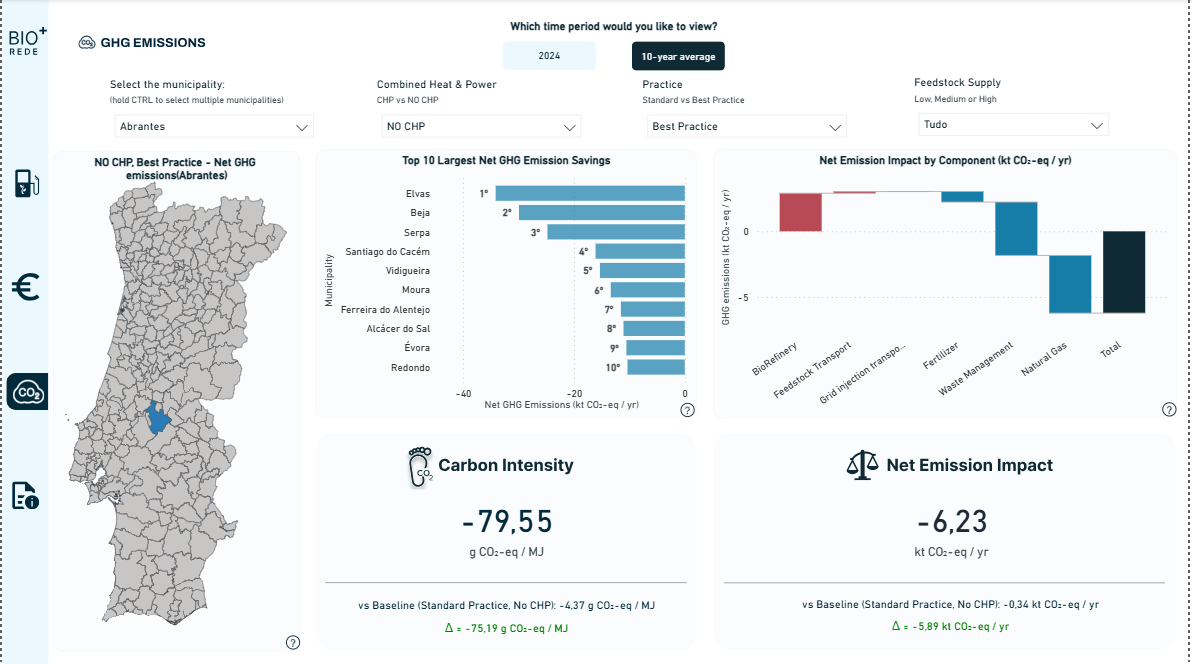

Layout of this report page (visuals, bound fields, positions):
{"tool":"powerbi","page":{"name":"GHG","canvas":[1280,720],"ordinal":5},"visuals":[{"type":"shape","title":"Barra_lateral","box":[0,0,50,720],"z":0,"group":"g2"},{"type":"shapeMap","fields":{"Category":["GHG.Municipality"],"Value":["Sum(GHG.Net Emissions)"]},"box":[55,164.4,266.7,540],"z":1000,"group":"g1"},{"type":"shape","box":[5,404,45,40],"z":1000,"group":"g2"},{"type":"card","fields":{"Values":["GHG.Titulo_mapa_ghg"]},"box":[64.5,164,247.1,40],"z":1500,"group":"g1"},{"type":"group","id":"g1","title":"Grupo 1","box":[55,164,266.9,540.4],"z":2000},{"type":"actionButton","title":"Duvidas_total_mapa","box":[304,686,17.9,17.9],"z":2000,"group":"g1"},{"type":"slicer","title":"Select the municipality:","fields":{"Values":["Municipality.Municipality"]},"box":[117,85.1,225,68.1],"z":3000},{"type":"actionButton","title":"Total_button","box":[5,180,44,40],"z":3000,"group":"g2"},{"type":"group","id":"g2","title":"Menu lateral abaerto","box":[0,0,50,720],"z":4000},{"type":"group","id":"g3","title":"Grupo 3","box":[541,-3.9,240,83.3],"z":5000},{"type":"actionButton","title":"Info_button","box":[3,516,44,40.6],"z":5000,"group":"g2"},{"type":"group","id":"g4","title":"Grupo 4","box":[338,164,411,290],"z":6000},{"type":"actionButton","title":"Euro_button","box":[6,404,44,40],"z":6000,"group":"g2"},{"type":"actionButton","box":[82,32,140,31],"z":7000},{"type":"actionButton","title":"Person_button","box":[3.6,292,44,40],"z":7000,"group":"g2"},{"type":"actionButton","title":"MEM+","box":[0,22.1,49.9,49.9],"z":8000,"group":"g2"},{"type":"actionButton","title":"TE_total_button","box":[680.7,47,100.3,31.3],"z":8000,"group":"g5"},{"type":"clusteredBarChart","title":"Top 10 Largest Net GHG Emission Savings","fields":{"Category":["GHG_TOP10.Municipality"],"Y":["Sum(GHG_TOP10.Net CO2eq yr-1)"]},"box":[338,164,411,290],"z":8000,"group":"g4"},{"type":"slicer","title":"Combined Heat & Power","fields":{"Values":["CHP.CHP_or_not"]},"box":[405,85.1,225.7,68.1],"z":9000},{"type":"actionButton","box":[541.3,46.8,100,30.8],"z":10000,"group":"g5"},{"type":"waterfallChart","title":"Net Emission Impact by Component (kt CO₂-eq / yr)","fields":{"Category":["Components.Component"],"Y":["Components.Waterfall Value"]},"box":[767.6,164,500.4,290],"z":10000},{"type":"slicer","title":"Practice","fields":{"Values":["Practice.Practice"]},"box":[692,85.1,225.7,68.1],"z":11000},{"type":"actionButton","box":[338.4,469.8,411.2,234.4],"z":12000},{"type":"actionButton","title":"Duvidas_total_ranking","box":[730.5,436,17.9,17.9],"z":13000,"group":"g4"},{"type":"cardVisual","fields":{"Data":["GHG.Avg_carbon_intensity"]},"box":[469.8,536,150.3,79.4],"z":13000},{"type":"textbox","box":[541,-3.9,240,83.3],"z":14000,"group":"g3"},{"type":"cardVisual","fields":{"Data":["GHG.sentence1_CI","GHG.sentence2_CI"]},"box":[349.8,640.9,390.4,50],"z":14000},{"type":"group","id":"g5","title":"Grupo 2","box":[541.3,46.8,239.7,31.5],"z":14500,"group":"g3"},{"type":"actionButton","box":[767.6,469.8,500.1,234.4],"z":15000},{"type":"cardVisual","fields":{"Data":["GHG.Avg_net_em_impact"]},"box":[927.4,536,194.7,79.4],"z":16000},{"type":"cardVisual","fields":{"Data":["GHG.sentence1_NEI","GHG.sentence2_NEI"]},"box":[829.1,640.9,390.4,49.2],"z":17000},{"type":"actionButton","box":[1252,436,17,17],"z":18000},{"type":"slicer","title":"Feedstock Supply","fields":{"Values":["Supply.Supply"]},"box":[980,85,225,68],"z":19000}]}

Visuals, with their boxes in screenshot pixels (x1, y1, x2, y2), scaled from the page's 1280x720 canvas onto the 1192x664 screenshot:
"Barra_lateral" shape: <bbox>0, 0, 47, 663</bbox>
shapeMap - GHG.Municipality x Sum(GHG.Net Emissions): <bbox>51, 152, 300, 650</bbox>
shape: <bbox>5, 373, 47, 409</bbox>
card - GHG.Titulo_mapa_ghg: <bbox>60, 151, 290, 188</bbox>
"Grupo 1" group: <bbox>51, 151, 300, 650</bbox>
"Duvidas_total_mapa" actionButton: <bbox>283, 633, 300, 649</bbox>
"Select the municipality:" slicer: <bbox>109, 78, 318, 141</bbox>
"Total_button" actionButton: <bbox>5, 166, 46, 203</bbox>
"Menu lateral abaerto" group: <bbox>0, 0, 47, 663</bbox>
"Grupo 3" group: <bbox>504, 0, 727, 73</bbox>
"Info_button" actionButton: <bbox>3, 476, 44, 513</bbox>
"Grupo 4" group: <bbox>315, 151, 698, 419</bbox>
"Euro_button" actionButton: <bbox>6, 373, 47, 409</bbox>
actionButton: <bbox>76, 30, 207, 58</bbox>
"Person_button" actionButton: <bbox>3, 269, 44, 306</bbox>
"MEM+" actionButton: <bbox>0, 20, 46, 66</bbox>
"TE_total_button" actionButton: <bbox>634, 43, 727, 72</bbox>
"Top 10 Largest Net GHG Emission Savings" clusteredBarChart: <bbox>315, 151, 698, 419</bbox>
"Combined Heat & Power" slicer: <bbox>377, 78, 587, 141</bbox>
actionButton: <bbox>504, 43, 597, 72</bbox>
"Net Emission Impact by Component (kt CO₂-eq / yr)" waterfallChart: <bbox>715, 151, 1181, 419</bbox>
"Practice" slicer: <bbox>644, 78, 855, 141</bbox>
actionButton: <bbox>315, 433, 698, 649</bbox>
"Duvidas_total_ranking" actionButton: <bbox>680, 402, 697, 419</bbox>
cardVisual - GHG.Avg_carbon_intensity: <bbox>438, 494, 577, 568</bbox>
textbox: <bbox>504, 0, 727, 73</bbox>
cardVisual - GHG.sentence1_CI x GHG.sentence2_CI: <bbox>326, 591, 689, 637</bbox>
"Grupo 2" group: <bbox>504, 43, 727, 72</bbox>
actionButton: <bbox>715, 433, 1181, 649</bbox>
cardVisual - GHG.Avg_net_em_impact: <bbox>864, 494, 1045, 568</bbox>
cardVisual - GHG.sentence1_NEI x GHG.sentence2_NEI: <bbox>772, 591, 1136, 636</bbox>
actionButton: <bbox>1166, 402, 1182, 418</bbox>
"Feedstock Supply" slicer: <bbox>913, 78, 1122, 141</bbox>
